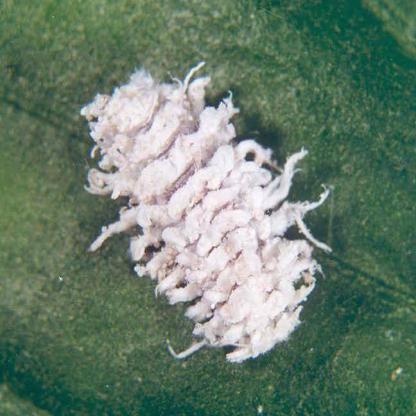mealy bug: (80, 65, 331, 364)
